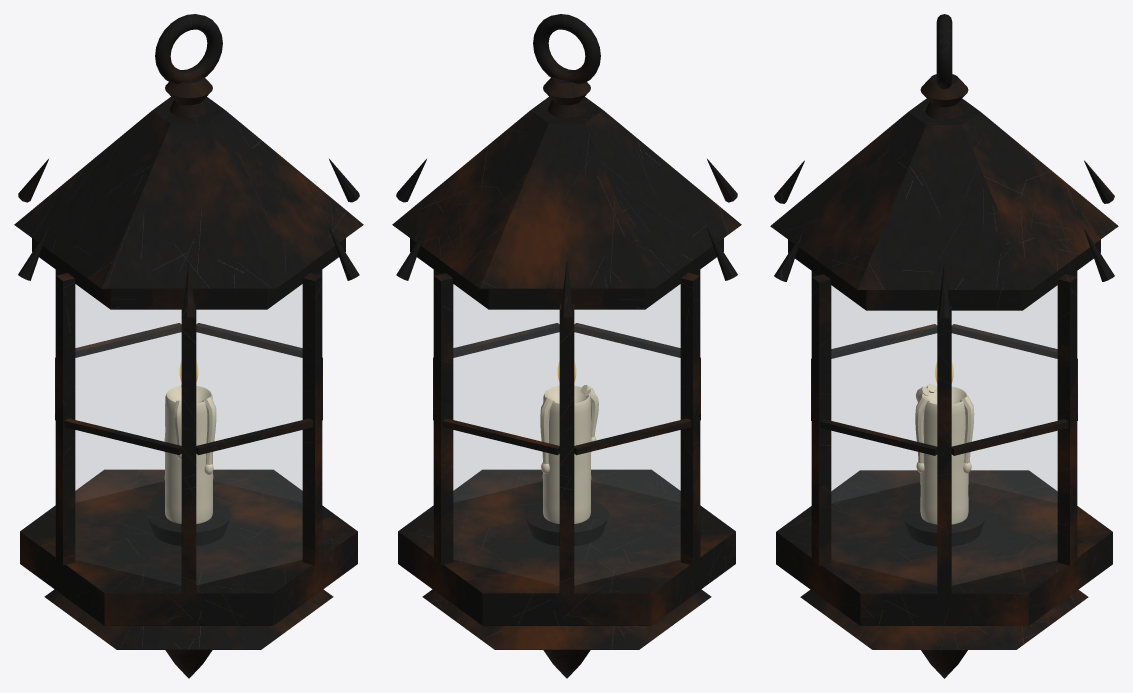
The model's file is Lantern_Hanging_Lit.gltf.
The picture shows the model from 3 angles, left to right: view 1: azimuth 30°, elevation 25°; view 2: azimuth 150°, elevation 25°; view 3: azimuth 270°, elevation 25°; orthographic projection.
Visible parts, largest first — view 1: Lantern_Hanging_Lit_Body, Lantern_Hanging_Lit_Glass; view 2: Lantern_Hanging_Lit_Body, Lantern_Hanging_Lit_Glass; view 3: Lantern_Hanging_Lit_Body, Lantern_Hanging_Lit_Glass.
Boxes of the visible parts, x1=… form: Lantern_Hanging_Lit_Body: x1=14, y1=14, x2=363, y2=678; Lantern_Hanging_Lit_Glass: x1=75, y1=285, x2=302, y2=502; Lantern_Hanging_Lit_Body: x1=392, y1=14, x2=741, y2=678; Lantern_Hanging_Lit_Glass: x1=453, y1=285, x2=680, y2=502; Lantern_Hanging_Lit_Body: x1=770, y1=14, x2=1118, y2=678; Lantern_Hanging_Lit_Glass: x1=831, y1=286, x2=1057, y2=503.
Size of the model in its own units: 0.3251 by 0.6065 by 0.2896.
Materials: 7 (3 with a texture image).
